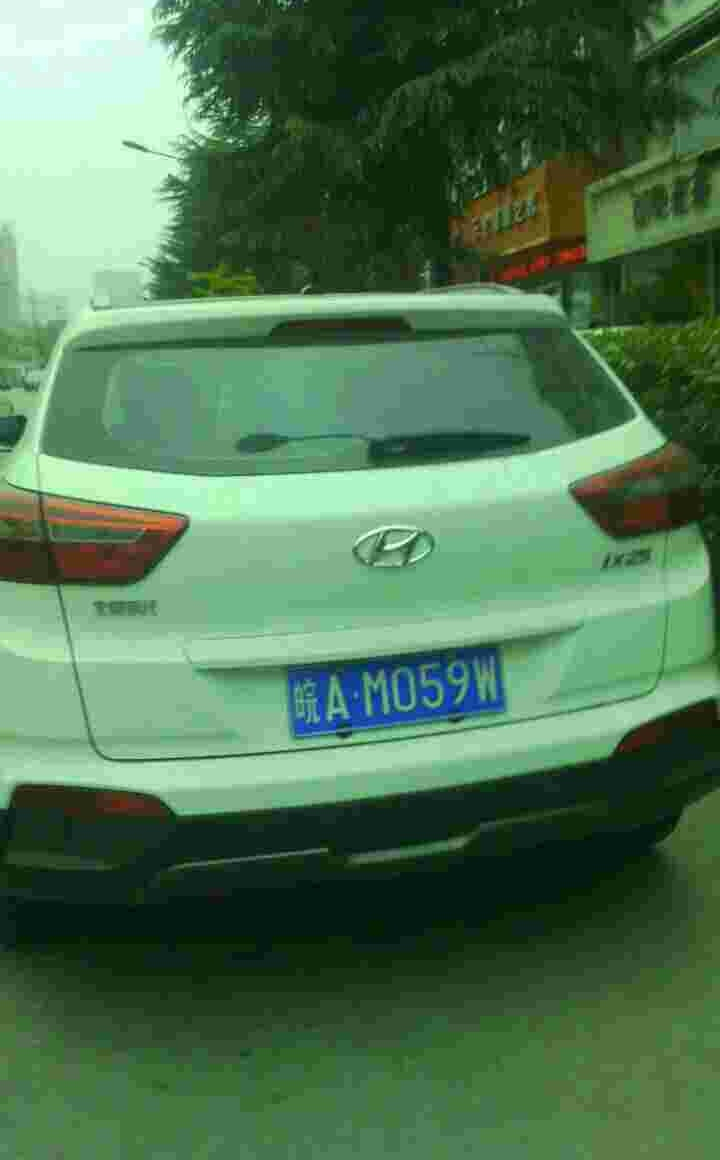plate: (291, 640, 510, 739)
